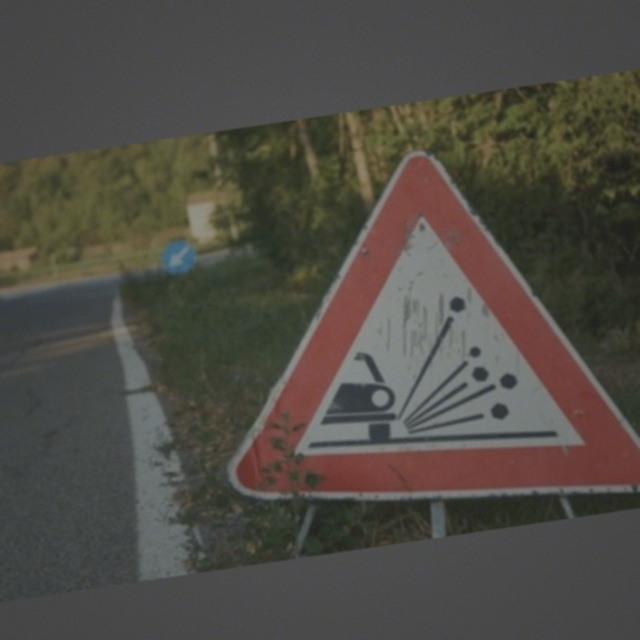Loose_Gravel: (217, 127, 637, 522)
